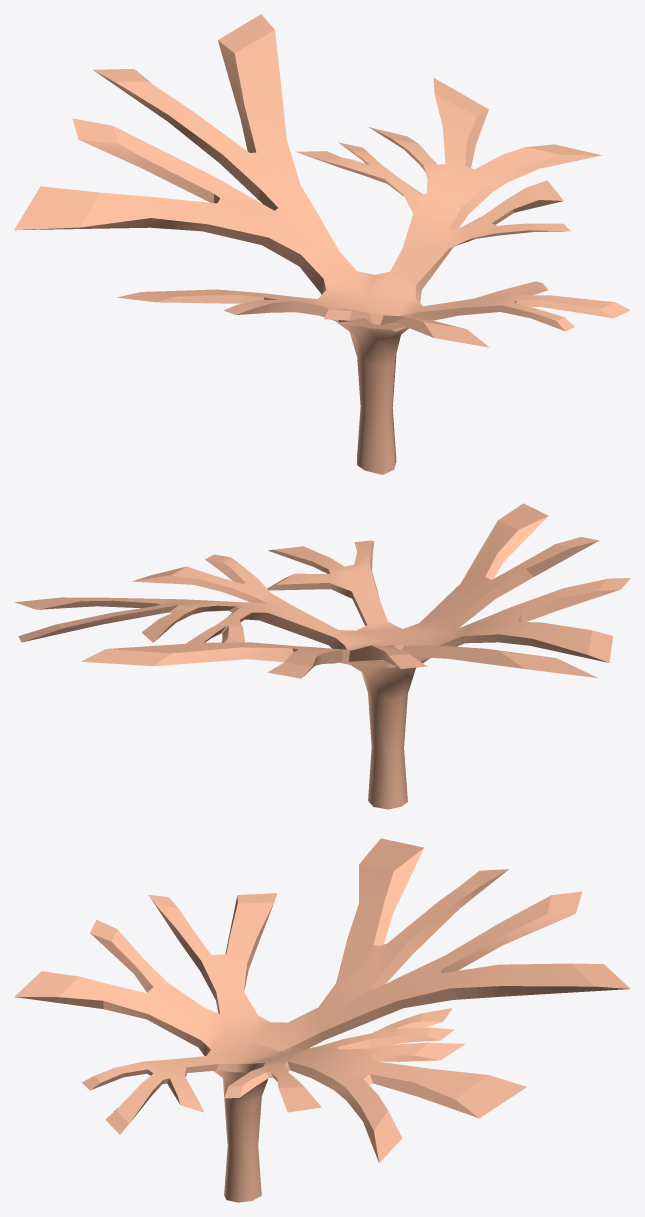
Rendered from SoulCoral.fbx.
3 renders of one model, top to bottom at view 1: azimuth 30°, elevation 25°; view 2: azimuth 150°, elevation 25°; view 3: azimuth 270°, elevation 25°, orthographic. The views are drawn at different scales.
Visible parts, largest first — view 1: SoulCoral; view 2: SoulCoral; view 3: SoulCoral.
Boxes of the visible parts, x1,y1,x2,y2 form: SoulCoral: (14, 14, 630, 474); SoulCoral: (15, 503, 630, 809); SoulCoral: (14, 838, 630, 1202).
Bounding box in the file's own units: 1367 × 634 × 1356.
